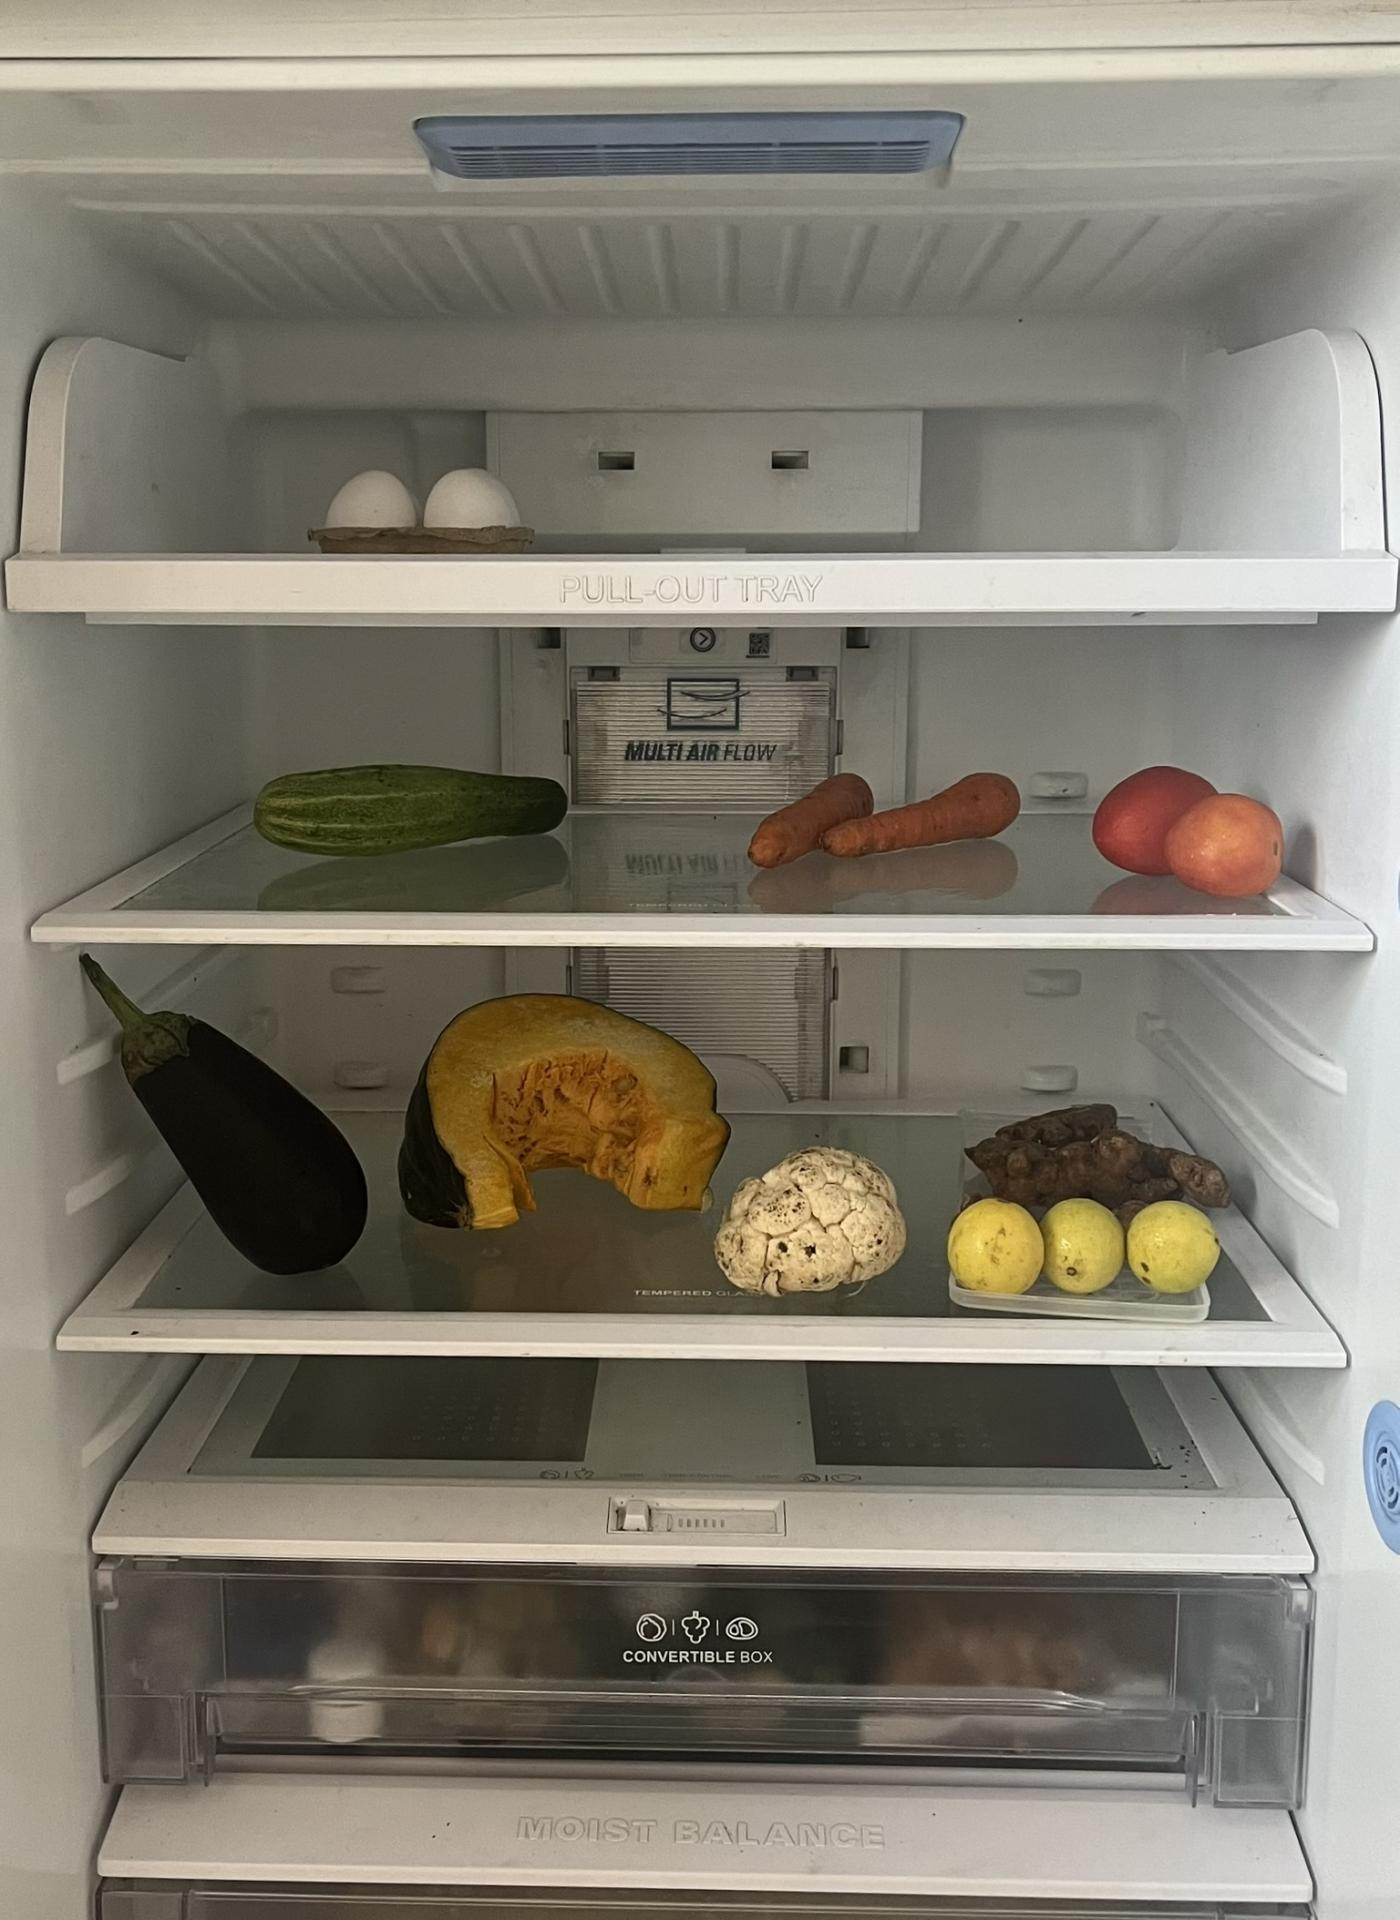brinjal: (86, 966, 365, 1275)
carrots: (751, 769, 1027, 871)
cauliflower: (716, 1140, 909, 1294)
cucumber: (250, 769, 574, 857)
egg: (324, 464, 531, 558)
ginger: (954, 1097, 1240, 1221)
lemon: (944, 1194, 1229, 1298)
pumpkin: (403, 979, 731, 1218)
tomato: (1096, 766, 1290, 897)
